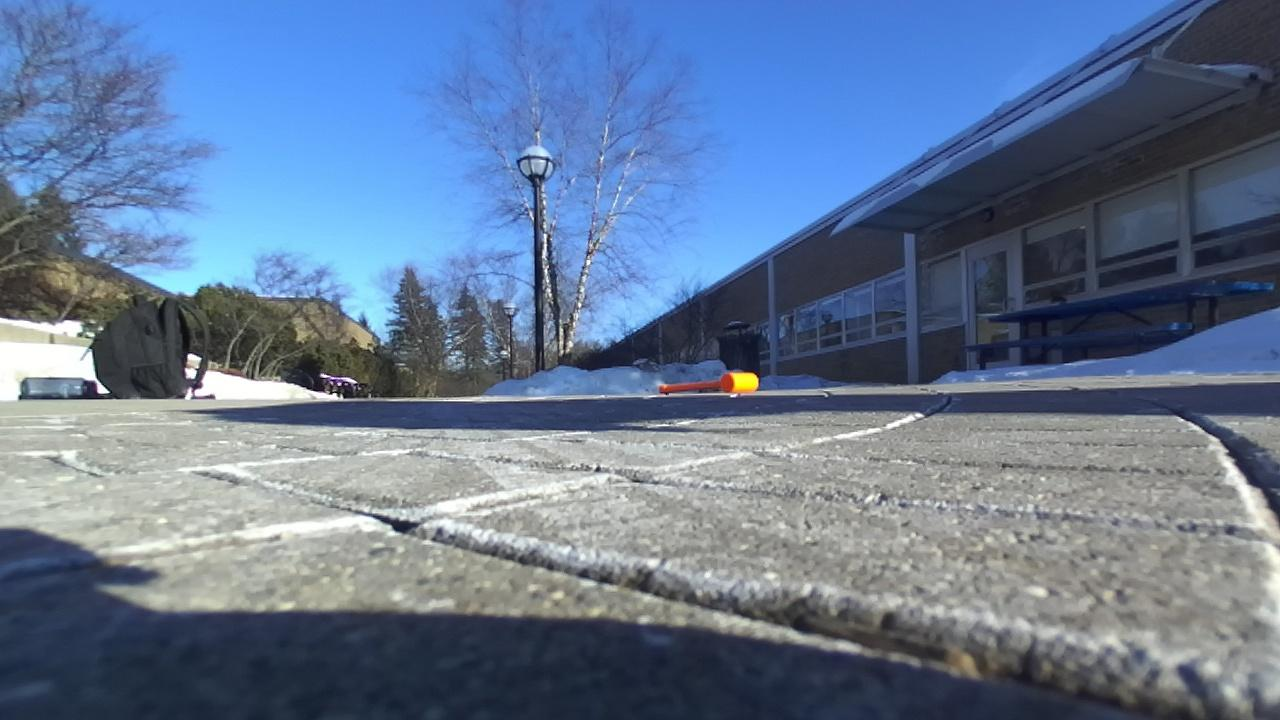bottle: (20, 377, 99, 399)
mallet: (658, 372, 758, 394)
